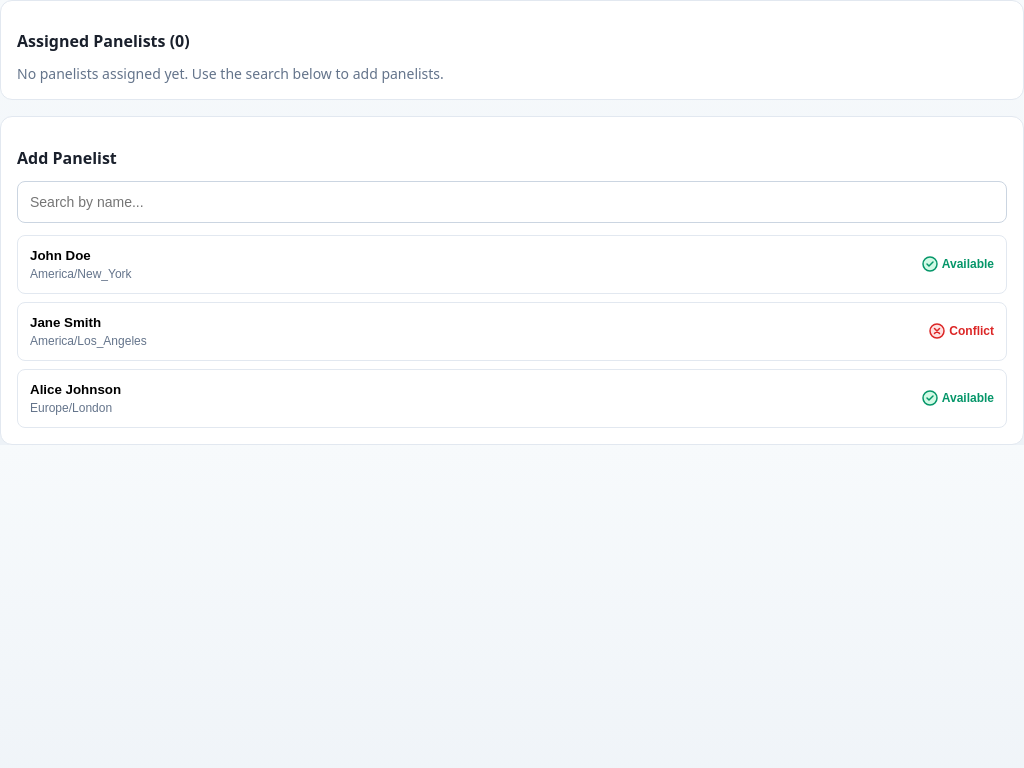
Test: PanelistAssignment Component › Search Functionality › filters panelists based on search query
Expected: the text "John Doe" is shown, top-left (30, 248), bottom-right (91, 262)
Expected: the text "Jane Smith" is shown, top-left (30, 314), bottom-right (101, 330)
// Search for "Alice"
Type "Alice" into the field named "Search for panelists" at (512, 202), box top-left (17, 180), bottom-right (1007, 222)
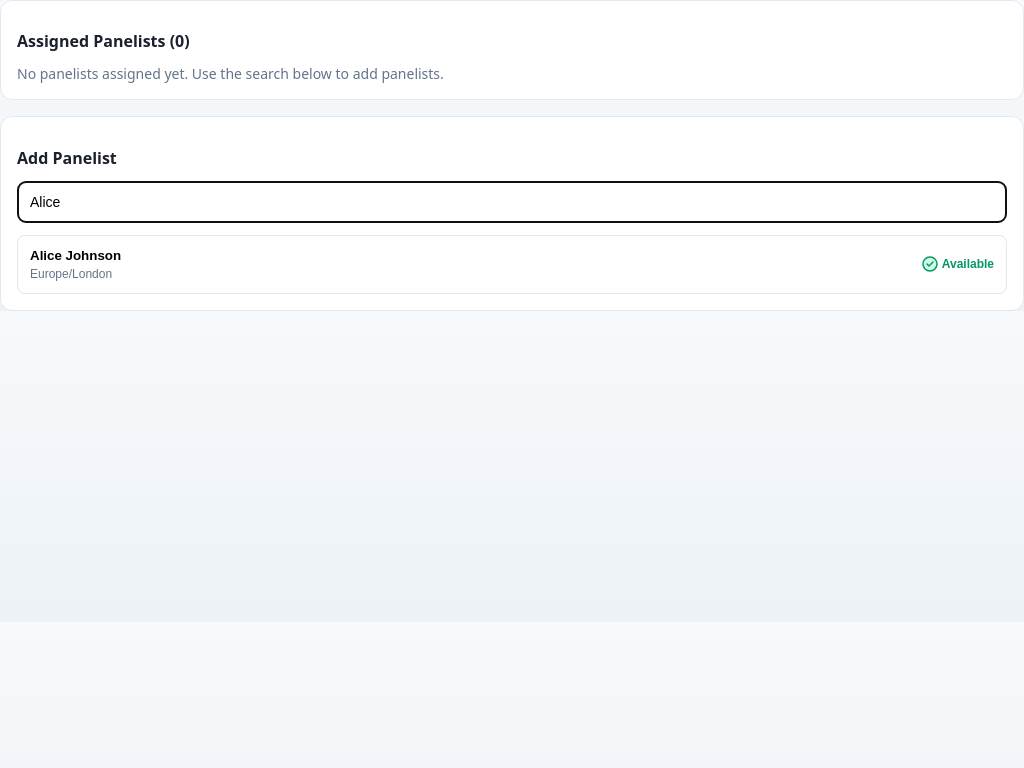
Expected: the text "Alice Johnson" is shown, top-left (30, 248), bottom-right (121, 262)
Now the button "John Doe" is gone
Now the button "Jane Smith" is gone
